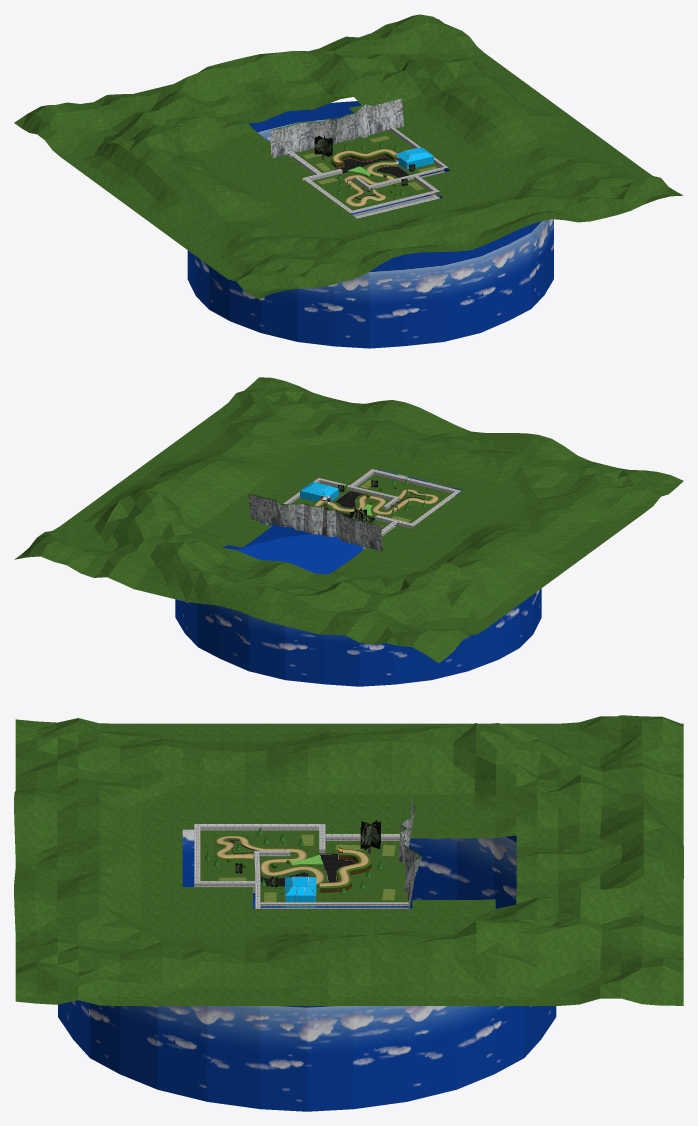
3 renders of one model, top to bottom at view 1: azimuth 30°, elevation 25°; view 2: azimuth 150°, elevation 25°; view 3: azimuth 270°, elevation 25°, orthographic. The views are drawn at different scales.
Visible parts, largest first — view 1: Plane.115, polygon0.019, Plane.075, Plane.118, Plane.074, Plane.117, Plane.089, Plane.079, Plane.082; view 2: Plane.115, polygon0.019, Plane.075, Plane.118, Plane.074, Plane.117, Plane.079; view 3: Plane.115, polygon0.019, Plane.118, Plane.074, Plane.117, Plane.075, Plane.079, Plane.082, Plane.068.
Boxes of the visible parts, bbox=[...] form: Plane.115: bbox=[14, 14, 683, 299]; polygon0.019: bbox=[187, 101, 553, 348]; Plane.075: bbox=[270, 97, 403, 158]; Plane.118: bbox=[295, 130, 440, 210]; Plane.074: bbox=[286, 126, 448, 213]; Plane.117: bbox=[332, 149, 398, 206]; Plane.089: bbox=[288, 155, 444, 218]; Plane.079: bbox=[395, 147, 433, 169]; Plane.082: bbox=[337, 157, 409, 177]; Plane.115: bbox=[14, 377, 683, 663]; polygon0.019: bbox=[175, 469, 541, 686]; Plane.075: bbox=[248, 493, 382, 551]; Plane.118: bbox=[291, 474, 451, 529]; Plane.074: bbox=[283, 469, 461, 534]; Plane.117: bbox=[314, 489, 438, 514]; Plane.079: bbox=[300, 482, 338, 504]; Plane.115: bbox=[14, 715, 683, 1005]; polygon0.019: bbox=[58, 829, 556, 1111]; Plane.118: bbox=[200, 830, 408, 902]; Plane.074: bbox=[194, 824, 408, 906]; Plane.117: bbox=[216, 836, 369, 886]; Plane.075: bbox=[398, 792, 422, 914]; Plane.079: bbox=[285, 877, 316, 907]; Plane.082: bbox=[260, 854, 355, 886]; Plane.068: bbox=[235, 820, 380, 887].
Bounding box in the file's own units: 274490 × 79309 × 275348.
Materials: 31 (31 with a texture image).
